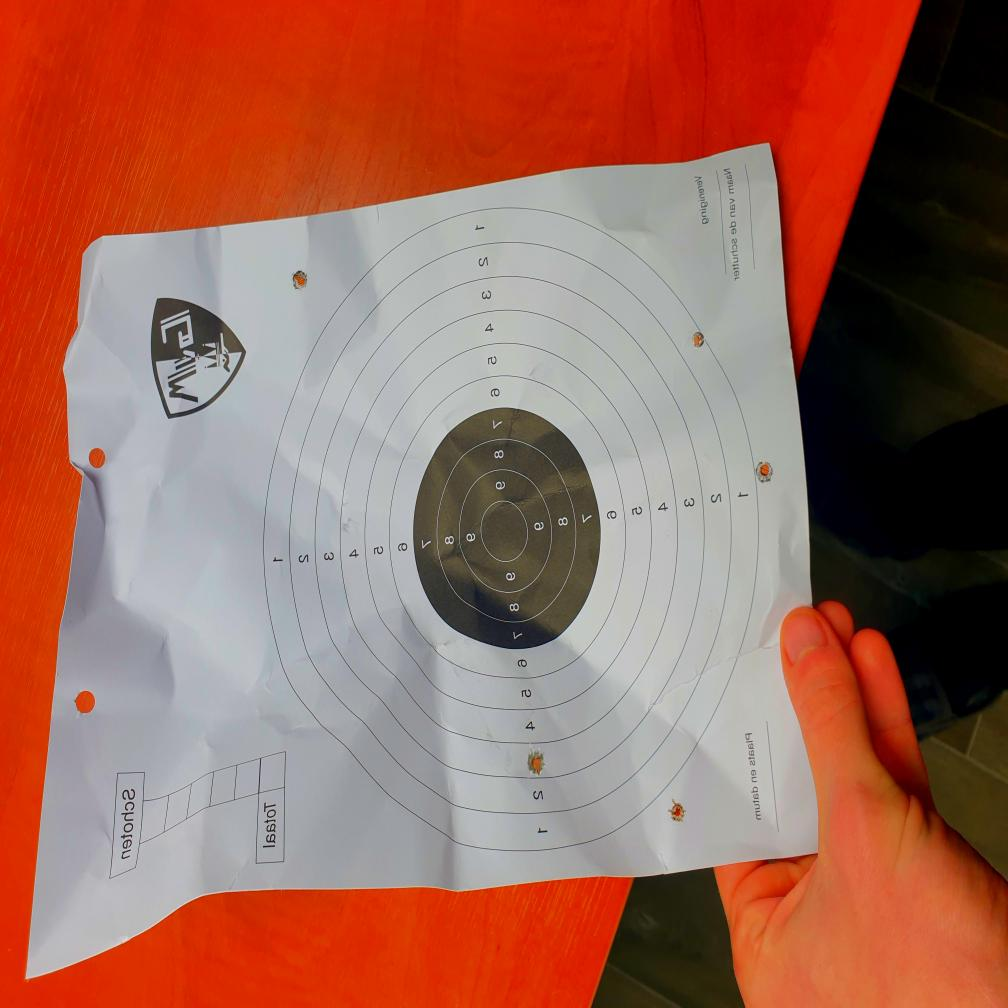0: (755, 459, 773, 484), (668, 798, 685, 824), (292, 269, 308, 291)
1: (691, 331, 705, 349)
3: (527, 748, 545, 777)
Target: (262, 207, 762, 856)
black_contour: (411, 408, 601, 649)
